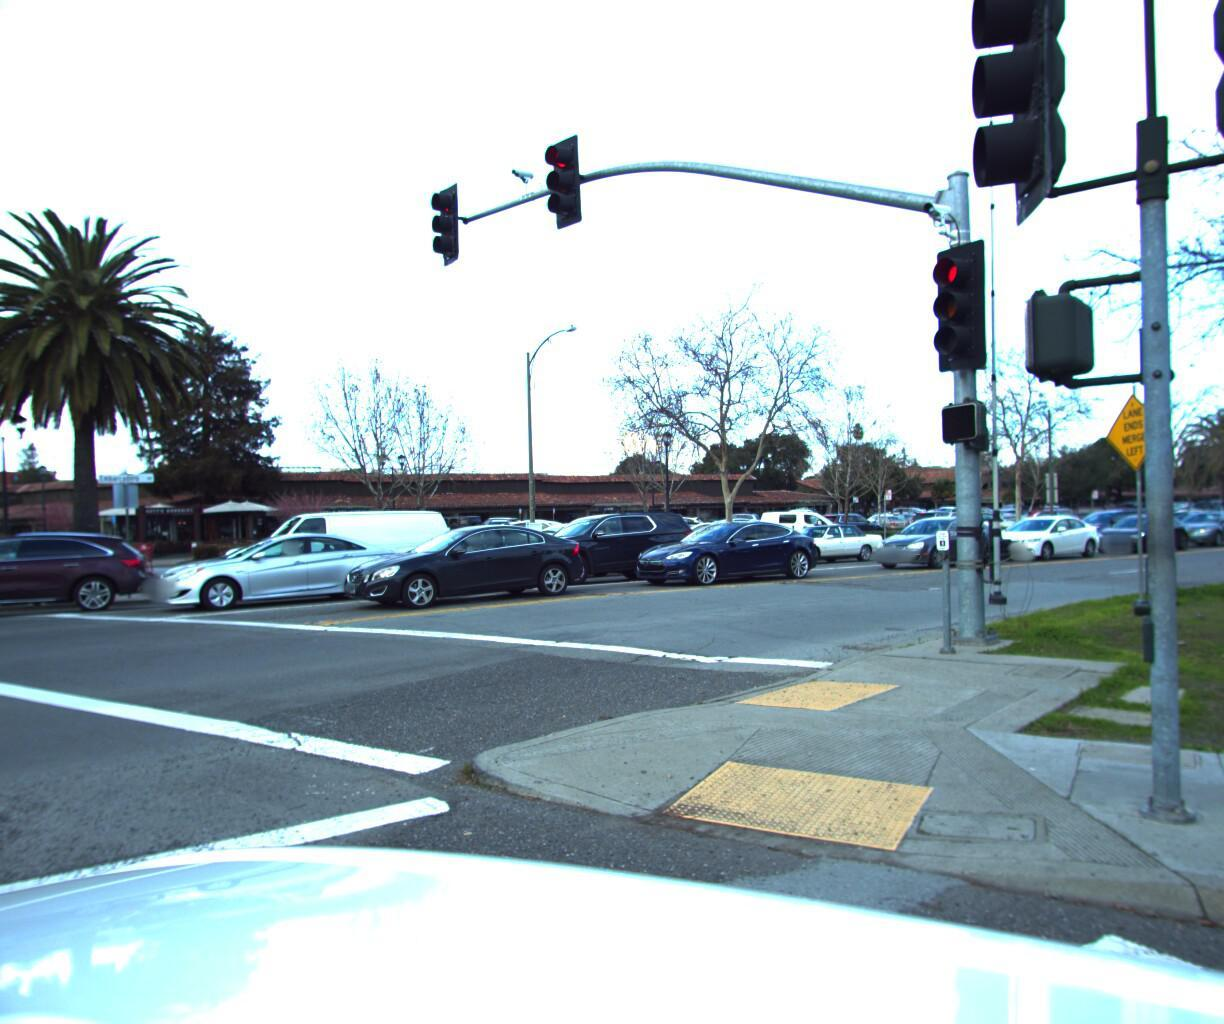car: (211, 501, 466, 605), (328, 515, 598, 612), (141, 524, 407, 614), (493, 503, 699, 589), (0, 522, 157, 628), (611, 511, 829, 587), (479, 510, 660, 585), (855, 506, 1013, 567), (970, 504, 1108, 558), (744, 516, 888, 565), (487, 510, 608, 553), (1083, 504, 1199, 548), (1054, 500, 1175, 540), (755, 501, 854, 536), (1152, 501, 1224, 543), (944, 500, 1026, 534), (667, 513, 761, 541), (1070, 492, 1164, 518), (1021, 500, 1097, 527)
